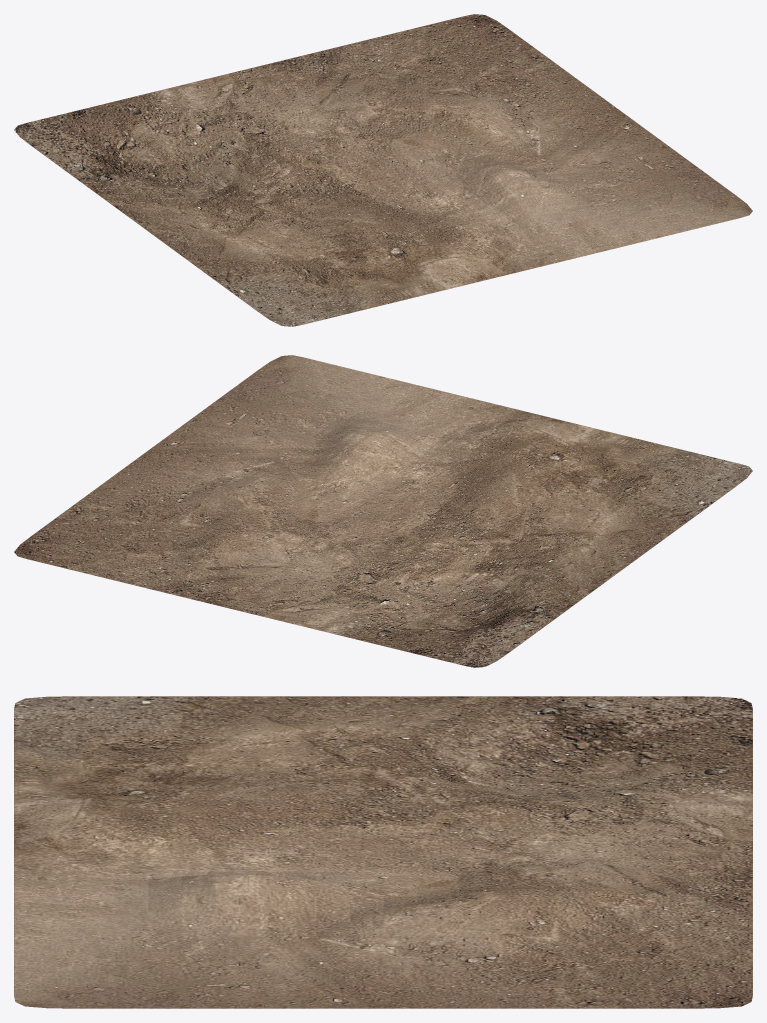
The model's file is Parque_01.fbx.
3 renders of one model, top to bottom at view 1: azimuth 30°, elevation 25°; view 2: azimuth 150°, elevation 25°; view 3: azimuth 270°, elevation 25°, orthographic. The views are drawn at different scales.
Visible parts, largest first — view 1: Plane.002; view 2: Plane.002; view 3: Plane.002.
Boxes of the visible parts, left/top/right/bottom form: Plane.002: left=14, top=14, right=752, bottom=326; Plane.002: left=14, top=355, right=752, bottom=667; Plane.002: left=14, top=696, right=752, bottom=1008.
Bounding box in the file's own units: 600 × 37.04 × 600.
